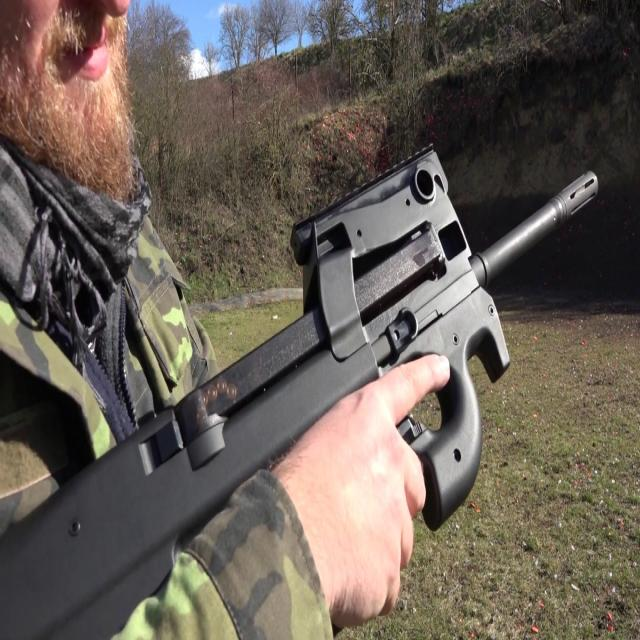SMG: (0, 148, 600, 640)
